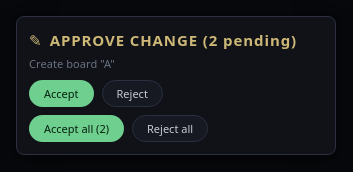
Test case: ChangeApprovalModal › shows a pending count and surfaces the next change after one is resolved
The width and height of the screenshot is (353, 172).
Expected: the text "APPROVE CHANGE (2 pending)" is shown, [50,29,297,52]
Expected: the text "Create board \"A\"" is shown, [29,56,115,71]
Click the button "Accept" at {"x": 61, "y": 93}, box [29,80,94,107]
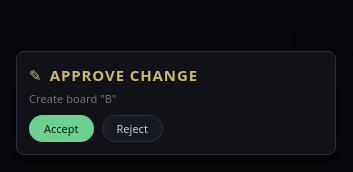
Expected: the text "Create board \"B\"" is shown, [29,91,117,106]
